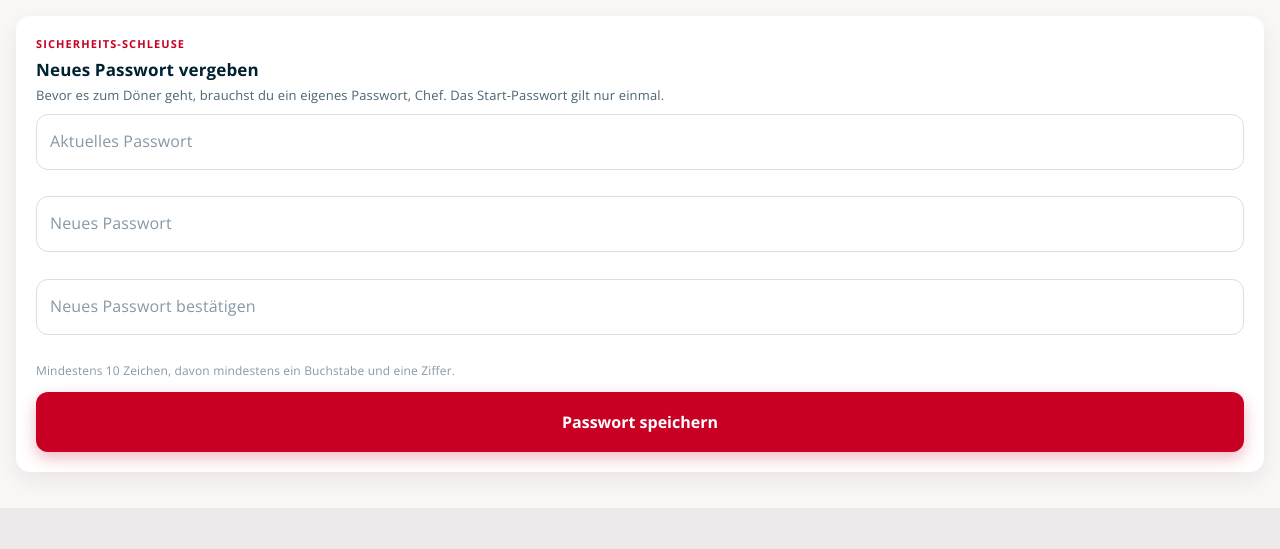
ChangePasswordForm — self-service flow › zeigt den Server-Fehler, wenn das aktuelle Passwort falsch ist
Step 1. Type "falsch" into the password field labelled "Aktuelles Passwort" → x=640, y=142, box left=36, top=114, right=1244, bottom=170
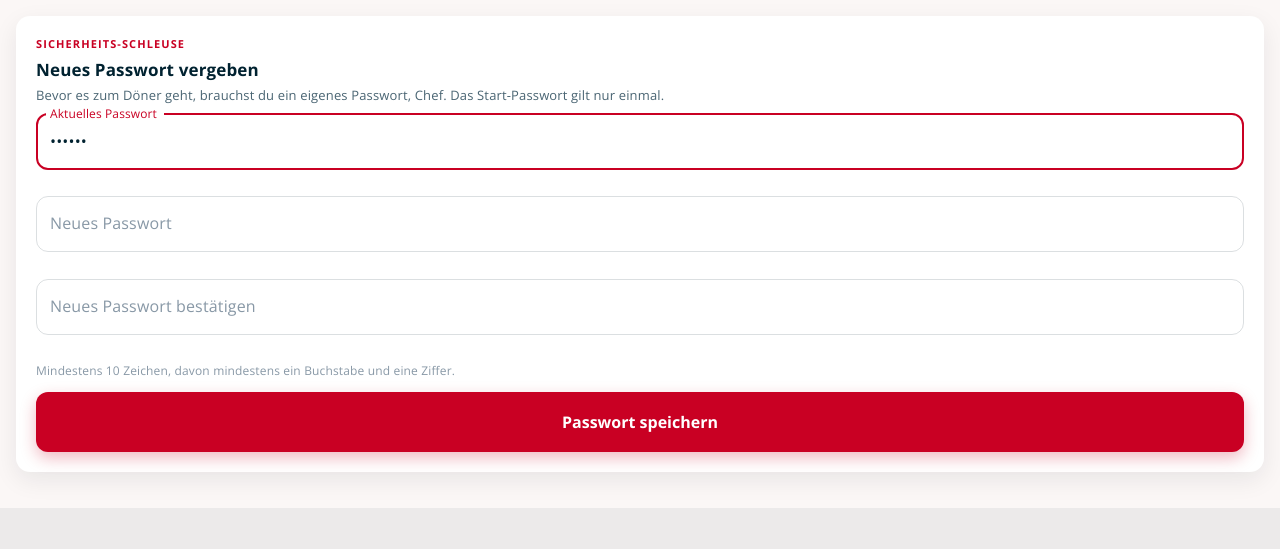
Step 2. Type "ganzNeuesPw7" into the password field labelled "Neues Passwort" → x=640, y=224, box left=36, top=196, right=1244, bottom=252
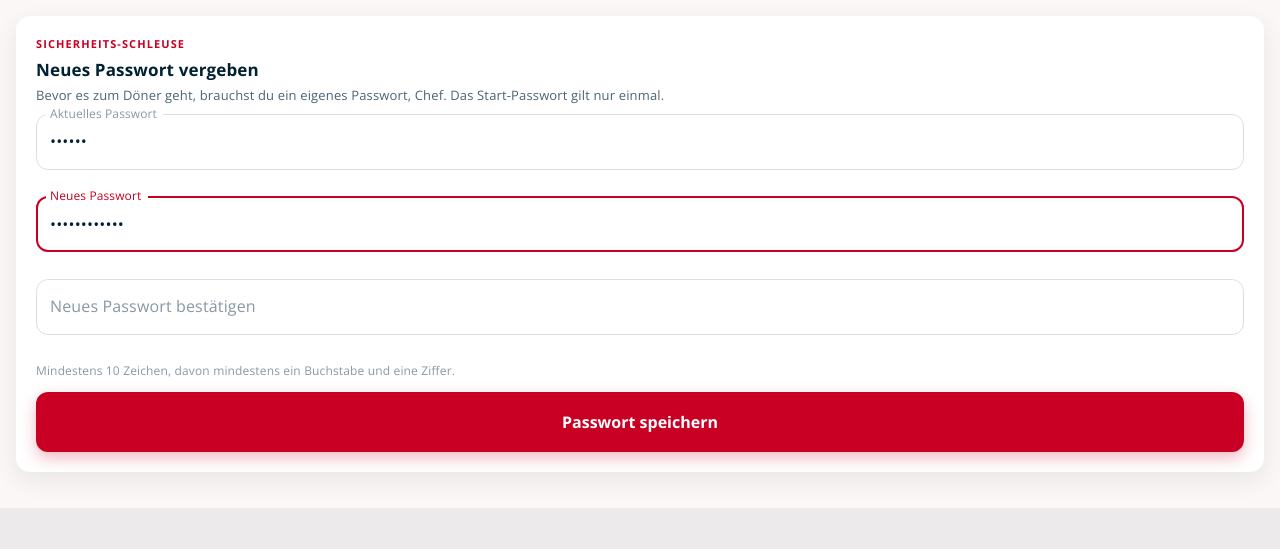
Step 3. Type "ganzNeuesPw7" into the password field labelled "Neues Passwort bestätigen" → x=640, y=307, box left=36, top=279, right=1244, bottom=335
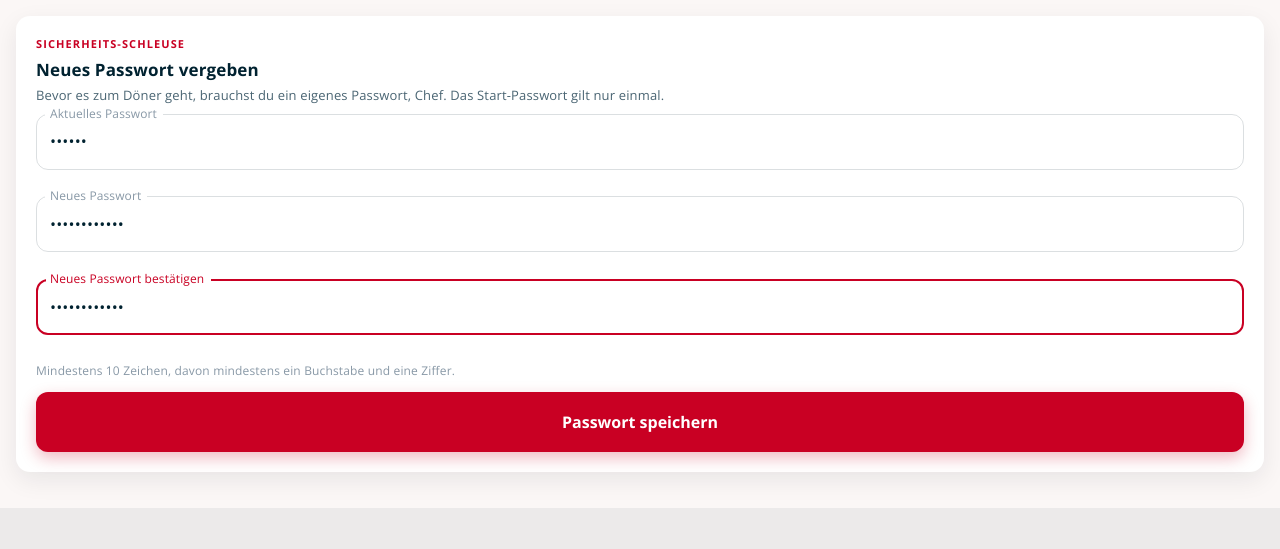
Step 4. Click the button "Passwort speichern" → x=640, y=422, box left=36, top=392, right=1244, bottom=452
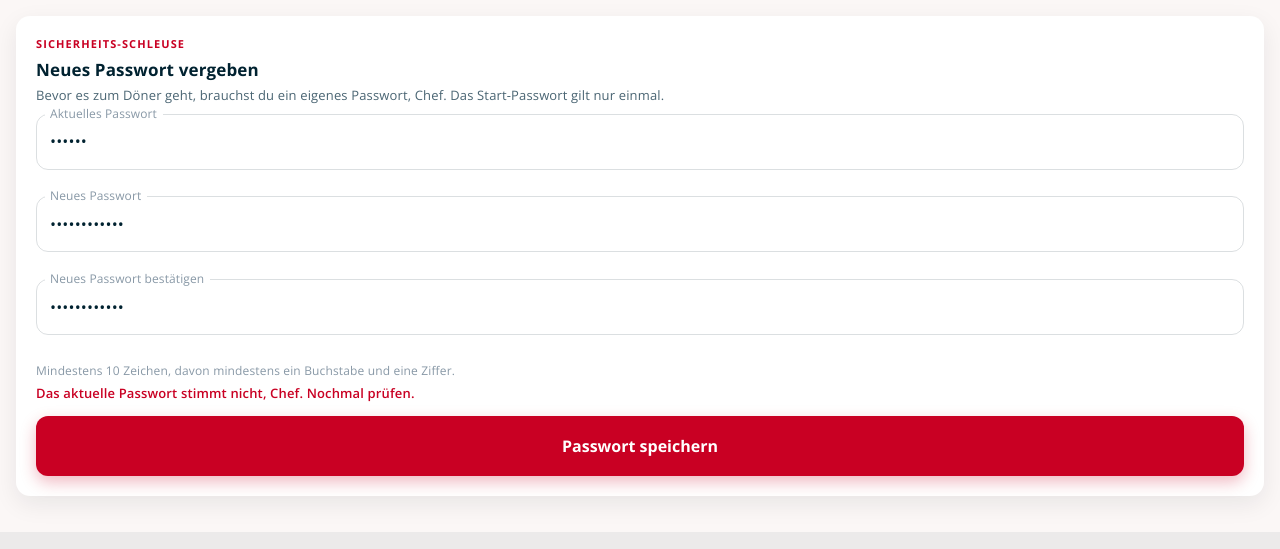
Check: the text "Das aktuelle Passwort stimmt nicht, Chef. Nochmal prüfen." is shown, box left=36, top=384, right=415, bottom=402
